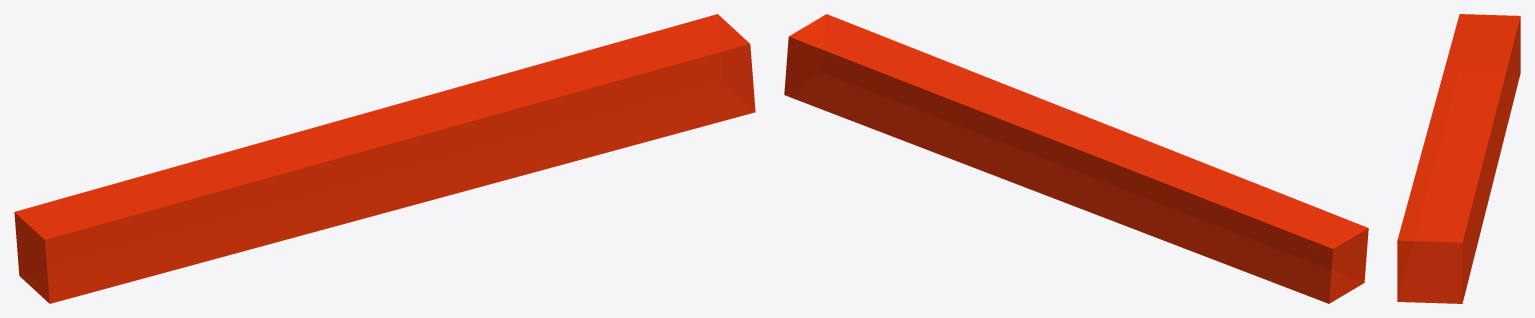
File: Event_420094457_EErechit_36.fbx
3 renders of one model, left to right at view 1: azimuth 30°, elevation 25°; view 2: azimuth 150°, elevation 25°; view 3: azimuth 270°, elevation 25°, orthographic. The views are drawn at different scales.
Visible parts, largest first — view 1: Model; view 2: Model; view 3: Model.
Part boxes in pixels (left/top/right/bottom): Model: left=14, top=14, right=755, bottom=303; Model: left=784, top=14, right=1368, bottom=303; Model: left=1397, top=14, right=1520, bottom=303.
Size of the model in its own units: 0.7896 by 0.139 by 0.146.
